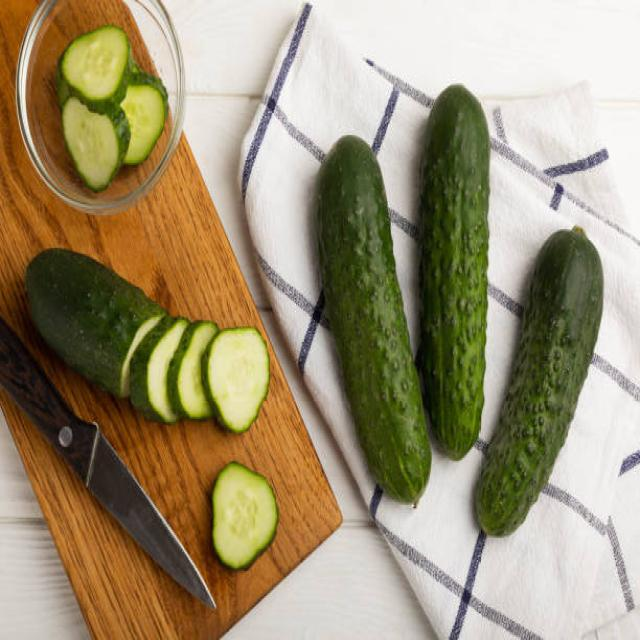cucumber: (315, 135, 432, 503), (472, 229, 605, 541), (414, 82, 491, 462), (24, 248, 153, 396)
